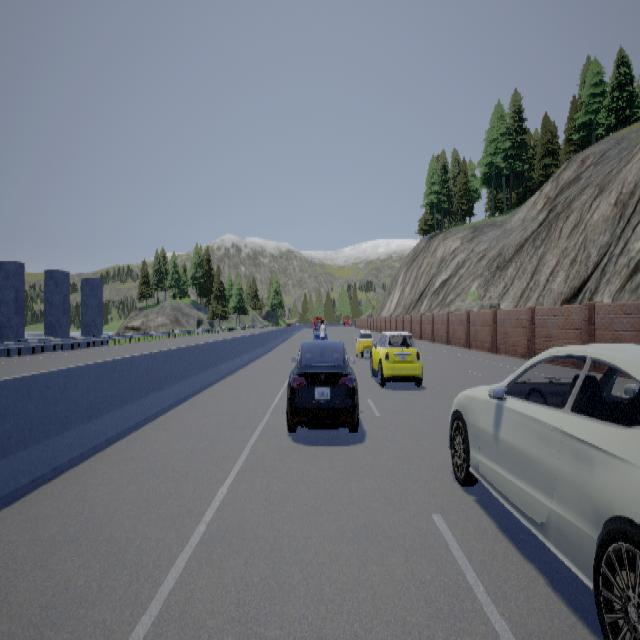vehicle: (447, 342, 639, 638), (285, 315, 358, 431), (354, 330, 422, 386)
